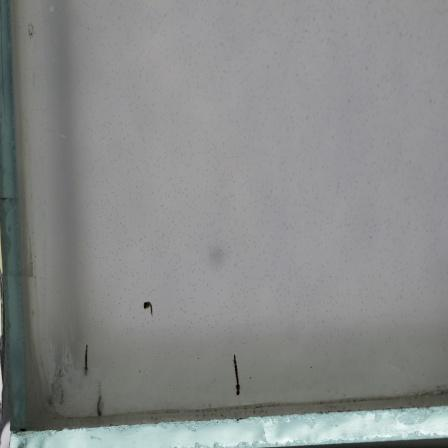Jentik-Nyamuk: (228, 352, 246, 398), (77, 341, 92, 378), (89, 391, 108, 419), (139, 298, 156, 318)
